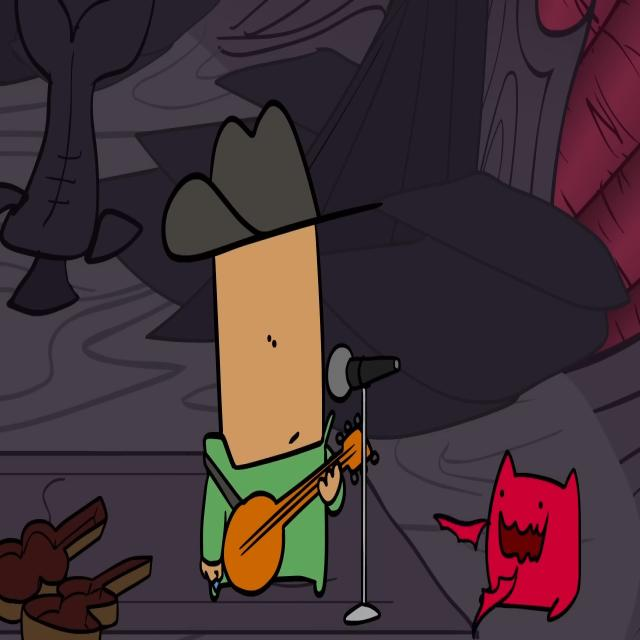Banjovi: (157, 90, 386, 604)
